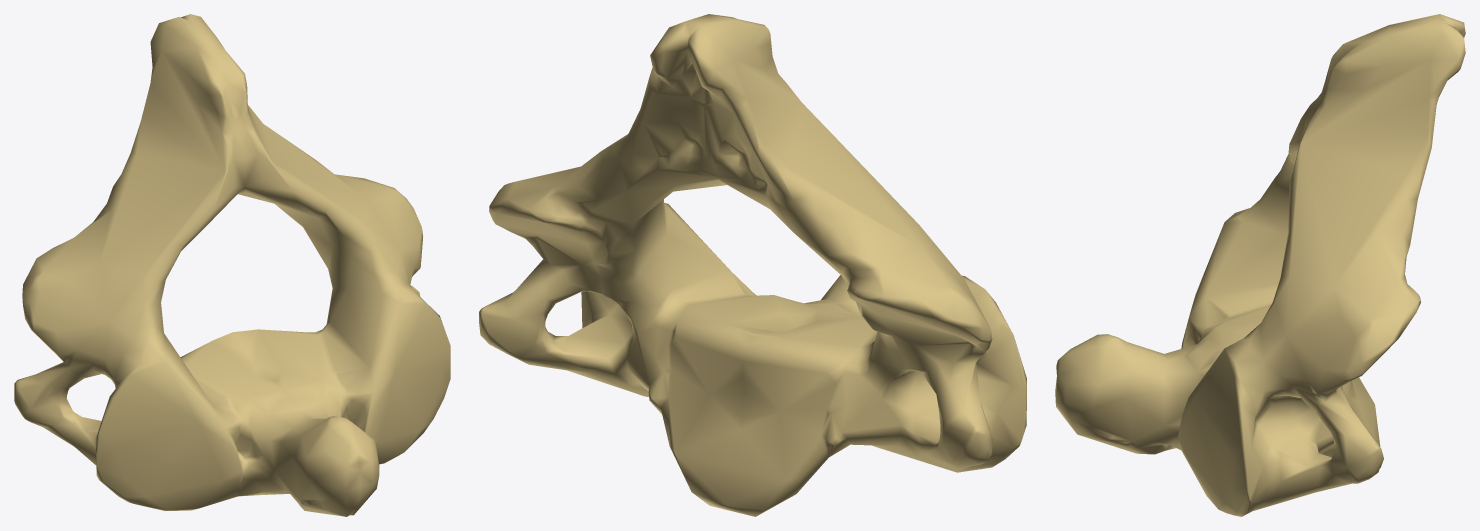
3 views of the same model, side by side, from view 1: azimuth 30°, elevation 25°; view 2: azimuth 150°, elevation 25°; view 3: azimuth 270°, elevation 25° (orthographic). The views are drawn at different scales.
Parts seen in each view (by area): view 1: 枢椎; view 2: 枢椎; view 3: 枢椎.
Part boxes in pixels (x1,y1,x2,y2): 枢椎: [14, 14, 450, 516]; 枢椎: [479, 14, 1026, 516]; 枢椎: [1055, 14, 1465, 516].
Bounding box in the file's own units: 0.079 × 0.0777 × 0.0632.
